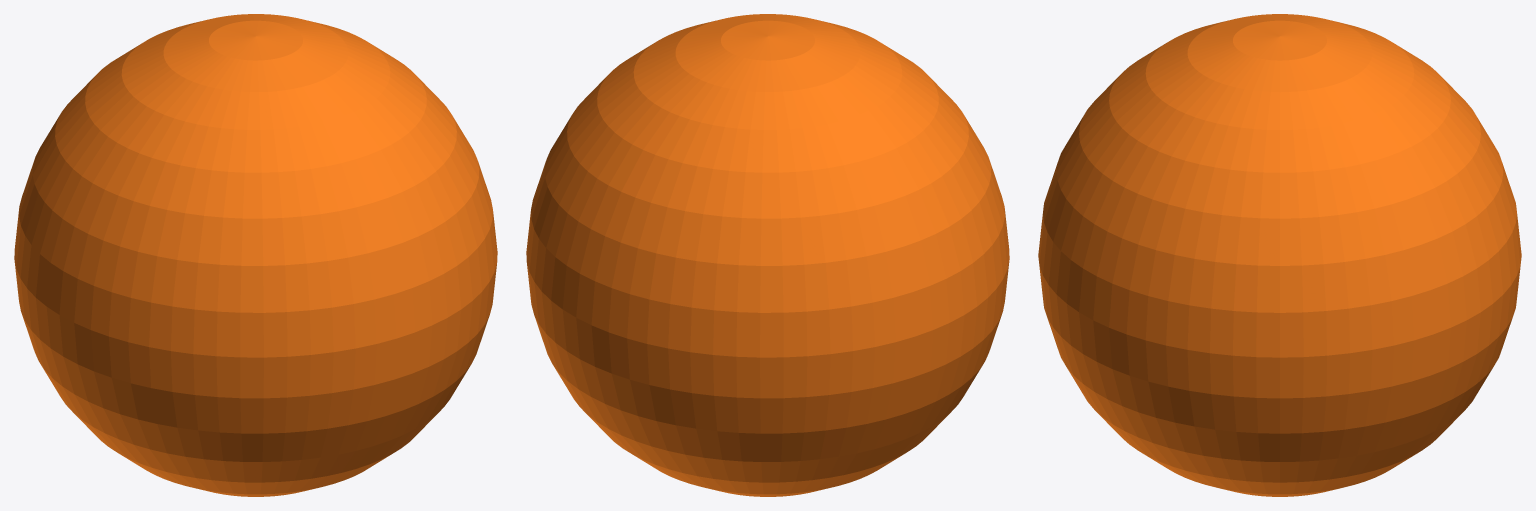
File: pingpangqiu.glb
3 views of the same model, side by side, from view 1: azimuth 30°, elevation 25°; view 2: azimuth 150°, elevation 25°; view 3: azimuth 270°, elevation 25° (orthographic).
Visible parts, largest first — view 1: 球体; view 2: 球体; view 3: 球体.
Part boxes in pixels (bbox=[...]): 球体: bbox=[14, 14, 497, 496]; 球体: bbox=[526, 14, 1009, 496]; 球体: bbox=[1038, 14, 1521, 496].
Bounding box in the file's own units: 2 × 2 × 2.
